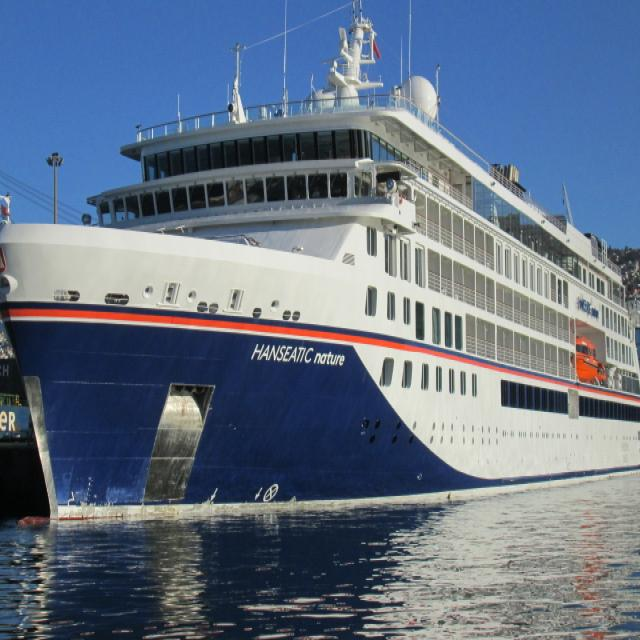cruises: (1, 1, 640, 542)
